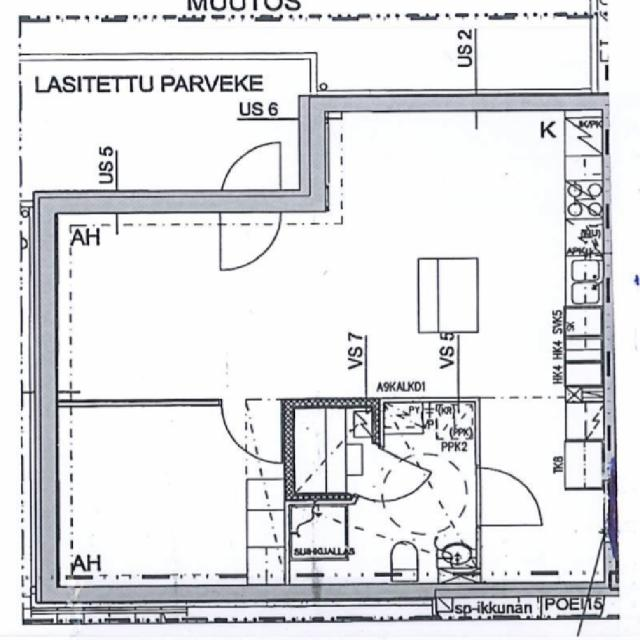door: (347, 446, 429, 518), (220, 133, 281, 212), (220, 192, 281, 270), (220, 399, 282, 464), (476, 467, 542, 525)
